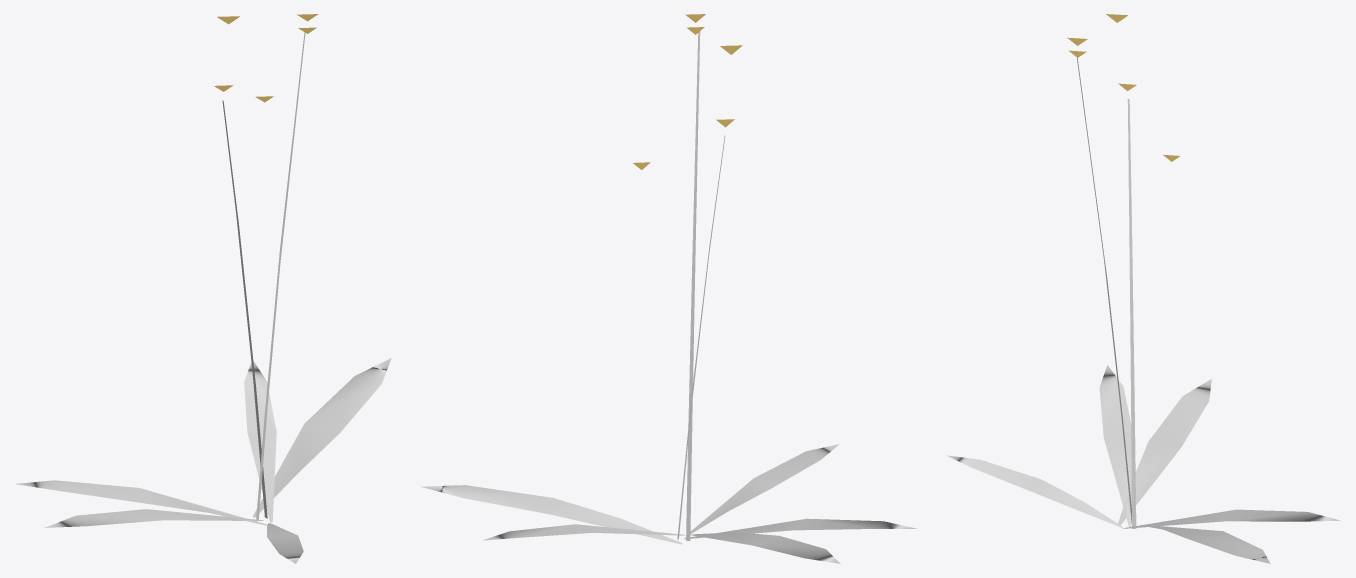
The model's file is RibwortPlantain_LOD1.glb.
3 renders of one model, left to right at view 1: azimuth 30°, elevation 25°; view 2: azimuth 150°, elevation 25°; view 3: azimuth 270°, elevation 25°, orthographic. The views are drawn at different scales.
Visible parts, largest first — view 1: RibwortPlantain_LOD1; view 2: RibwortPlantain_LOD1; view 3: RibwortPlantain_LOD1.
Part boxes in pixels (x1,y1,x2,y2): RibwortPlantain_LOD1: (15, 14, 391, 563); RibwortPlantain_LOD1: (421, 14, 917, 563); RibwortPlantain_LOD1: (946, 14, 1340, 563).
Bounding box in the file's own units: 1.2 × 1.38 × 1.
